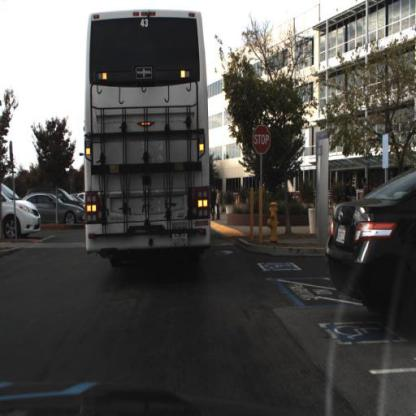car: (328, 168, 415, 310), (24, 191, 85, 228), (1, 183, 42, 238)
pedestrian: (360, 176, 373, 203), (346, 172, 356, 207), (361, 174, 371, 205), (217, 188, 225, 223), (345, 178, 355, 204), (210, 187, 217, 224)
truck: (76, 5, 216, 288)
